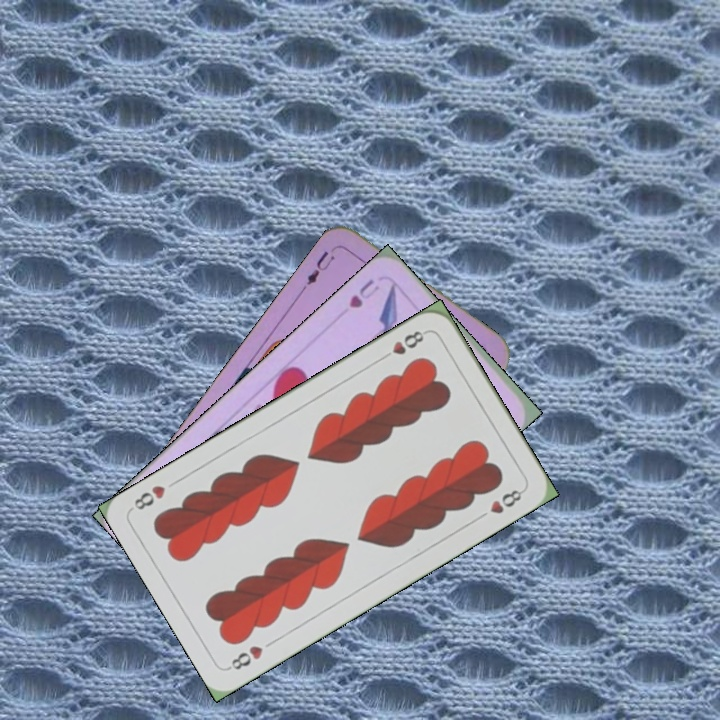EU: (298, 247, 338, 294)
H8: (376, 326, 430, 363), (224, 641, 266, 673)
HU: (344, 274, 382, 311)
